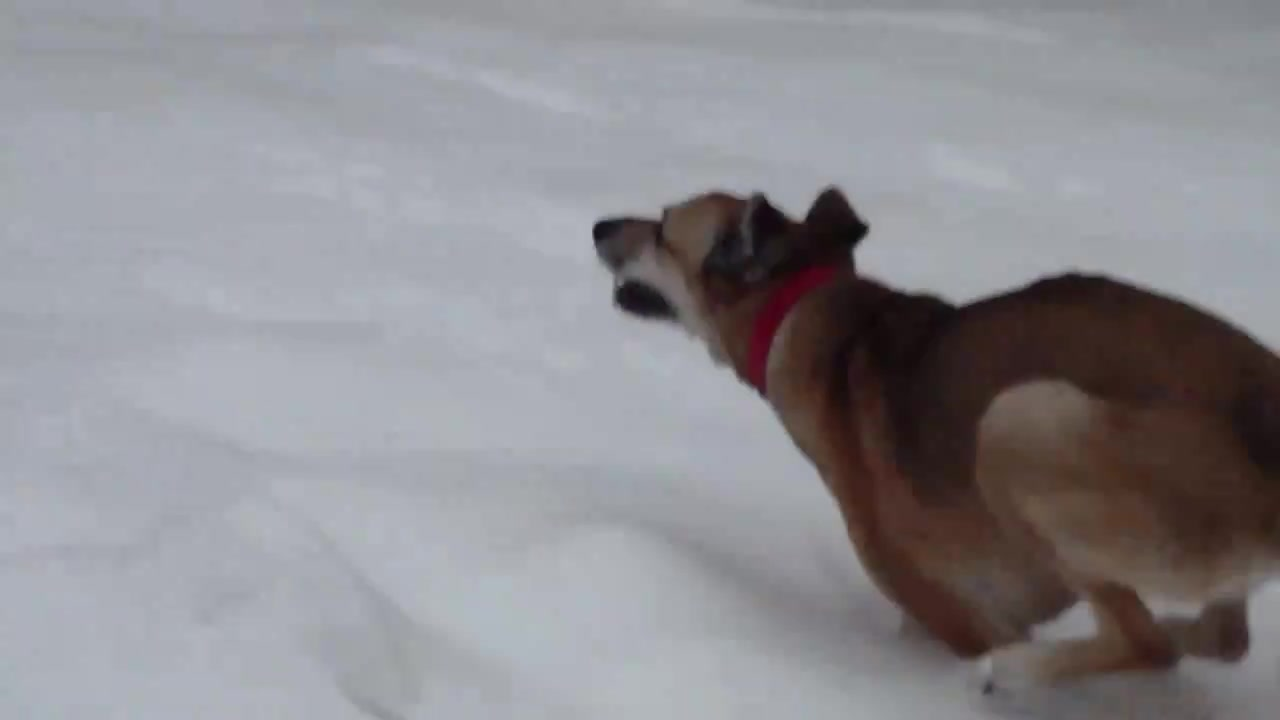dog: (589, 185, 1280, 697)
